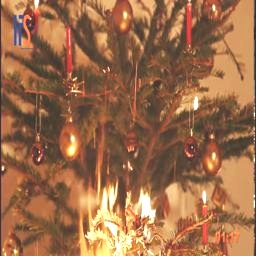fire: (72, 176, 168, 229)
